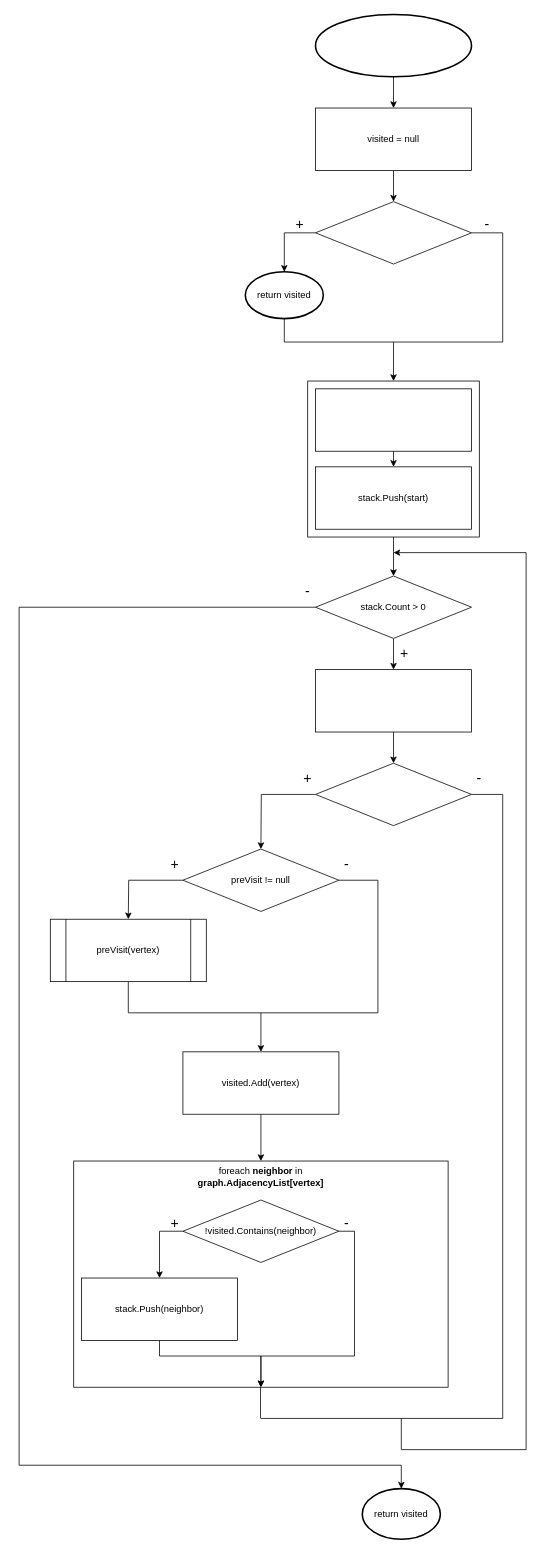
Image size: 546x1553. Some labels were removed from this diagram. Here are the shapes that lost their labels. From the top down, the centre of each, then its label:
At point 393,45: "DFS(graph, start, preVisit = null)".
At point 393,232: "!graph.AdjcencyList. ContainsKey(start)".
At point 393,419: "stack = null".
At point 393,700: "vertex = stack.Pop()".
At point 393,794: "!visited.Contains(vertex)".
